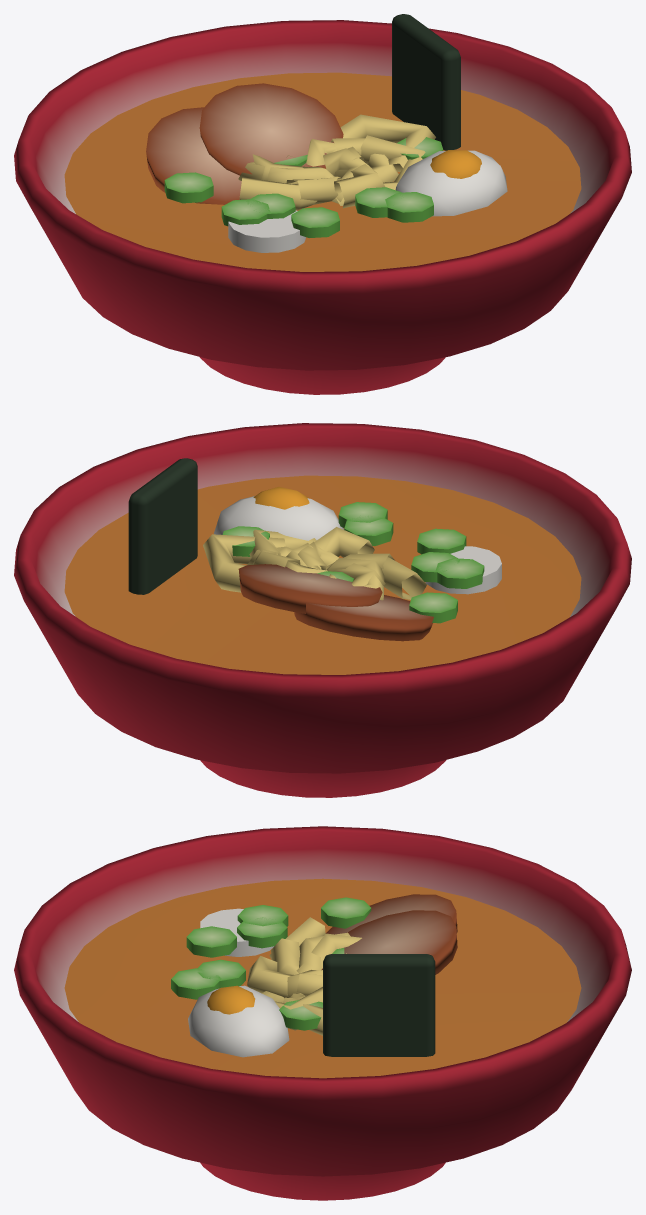
File: item_dish_ramen.glb
3 renders of one model, top to bottom at view 1: azimuth 30°, elevation 25°; view 2: azimuth 150°, elevation 25°; view 3: azimuth 270°, elevation 25°, orthographic.
Parts seen in each view (by area): view 1: item_dish_ramen_main, item_dish_ramen_gloss; view 2: item_dish_ramen_main, item_dish_ramen_gloss; view 3: item_dish_ramen_main, item_dish_ramen_gloss.
Part boxes in pixels (x1,y1,x2,y2): item_dish_ramen_main: (14, 14, 631, 394); item_dish_ramen_gloss: (64, 72, 581, 271); item_dish_ramen_main: (14, 423, 631, 797); item_dish_ramen_gloss: (64, 475, 581, 674); item_dish_ramen_main: (14, 826, 631, 1200); item_dish_ramen_gloss: (64, 878, 581, 1078).
Size of the model in its own units: 0.22 by 0.1 by 0.22.
